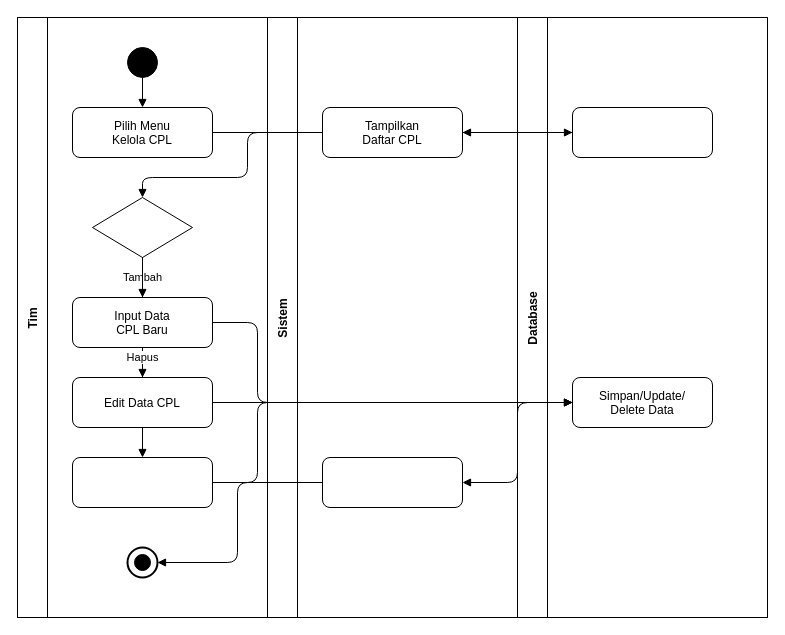
Image size: 785x635. Some labels were removed from this diagram. The shapes that lost their labels are listed below. From the top down, each one's centre as x and y in pixels, then its label:
[642,132]: Ambil Data CPL
[142,227]: Pilih Aksi?
[142,482]: Konfirmasi Hapus
[392,482]: Tampilkan Pesan Sukses
